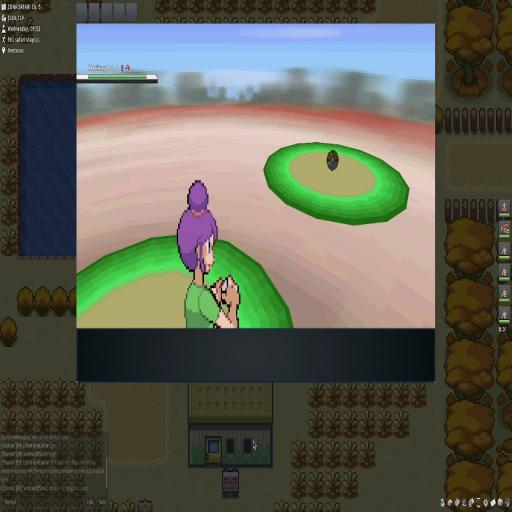SUCESSFULCAPTURE: (327, 150, 339, 171)
